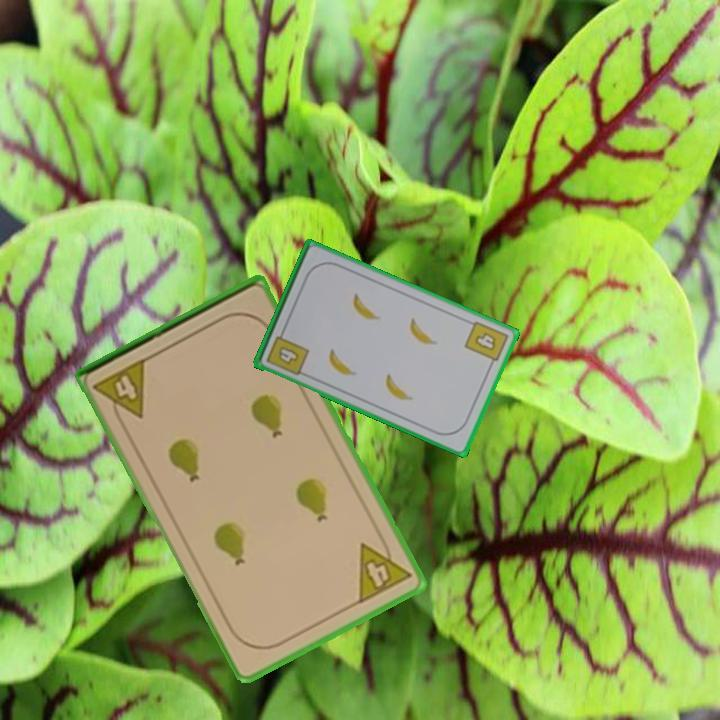4b: (461, 317, 511, 370), (263, 326, 312, 378)
4p: (354, 530, 414, 607), (90, 354, 150, 429)
